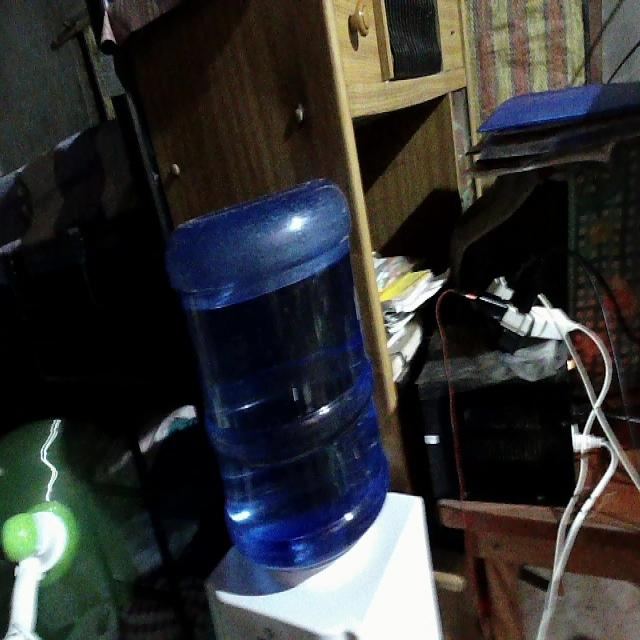-: (461, 264, 579, 348)
